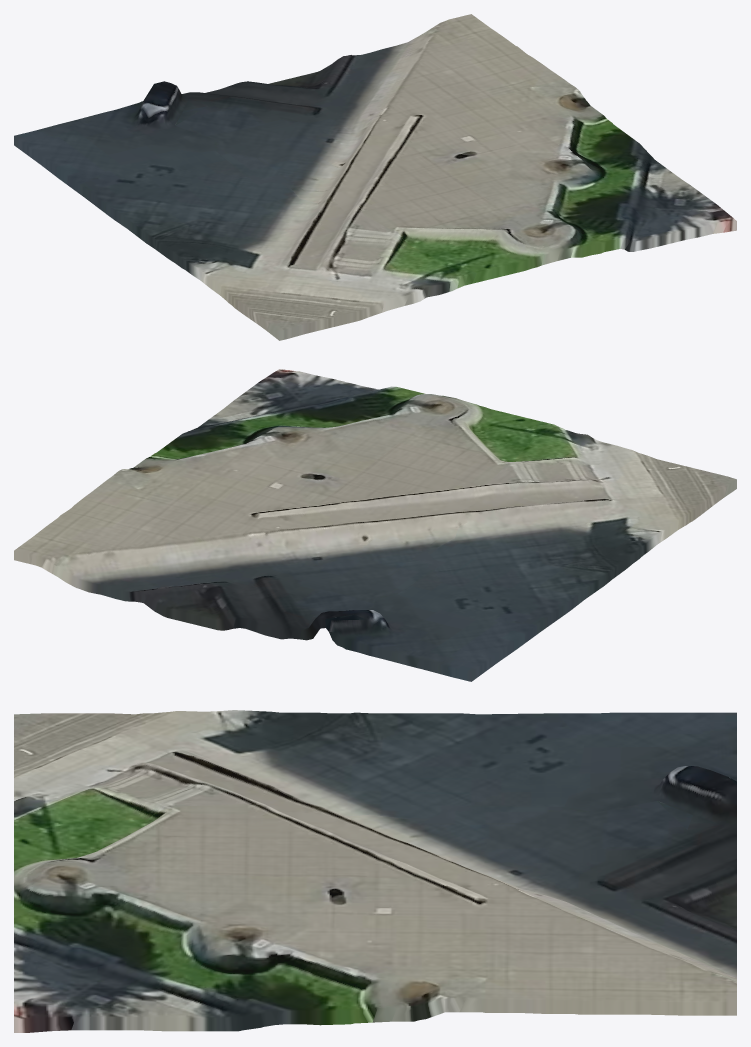
The model's file is z20-167790-405225-h0-yup-uvflip-v3-world.glb.
The picture shows the model from 3 angles, top to bottom: view 1: azimuth 30°, elevation 25°; view 2: azimuth 150°, elevation 25°; view 3: azimuth 270°, elevation 25°; orthographic projection. The views are drawn at different scales.
Size of the model in its own units: 30.16 by 2.48 by 30.32.
1 material, 1 textured.
